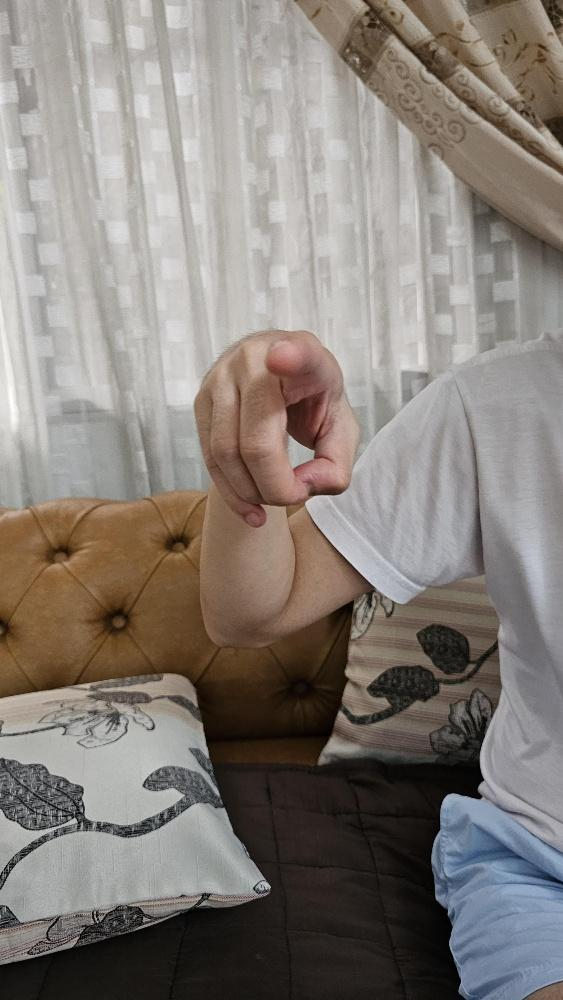z: (190, 324, 363, 530)
